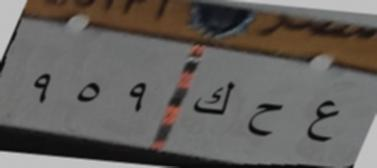5: (72, 78, 102, 110)
7aa: (246, 90, 283, 144)
9: (126, 74, 150, 121), (33, 68, 54, 108)
ain: (302, 96, 338, 149)
kaaf: (191, 69, 236, 126)
